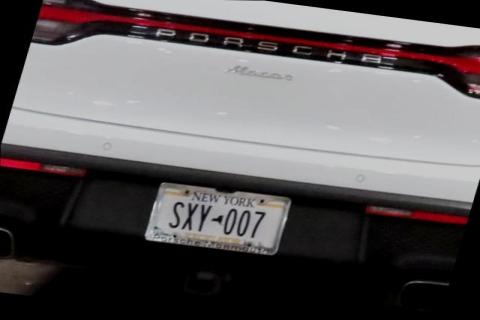LicensePlate: (140, 180, 292, 255)
